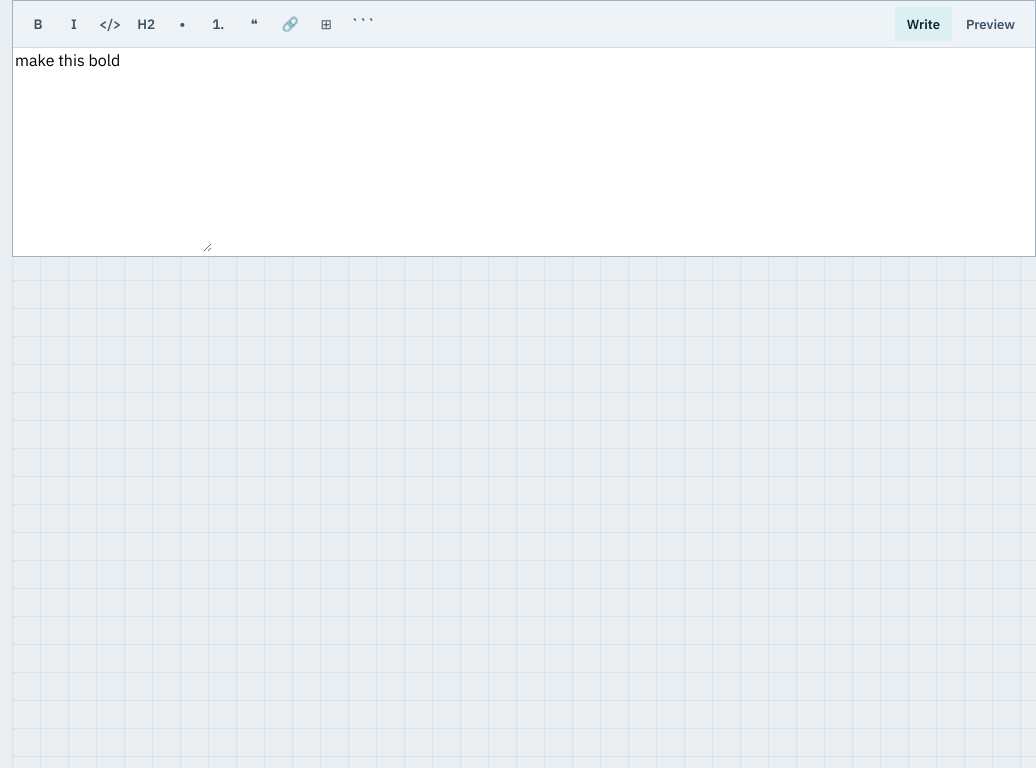
Scenario: MarkdownEditor › wraps the selection when a formatting tool is used
Click the button named "Bold": (38, 24) [21,7,55,41]
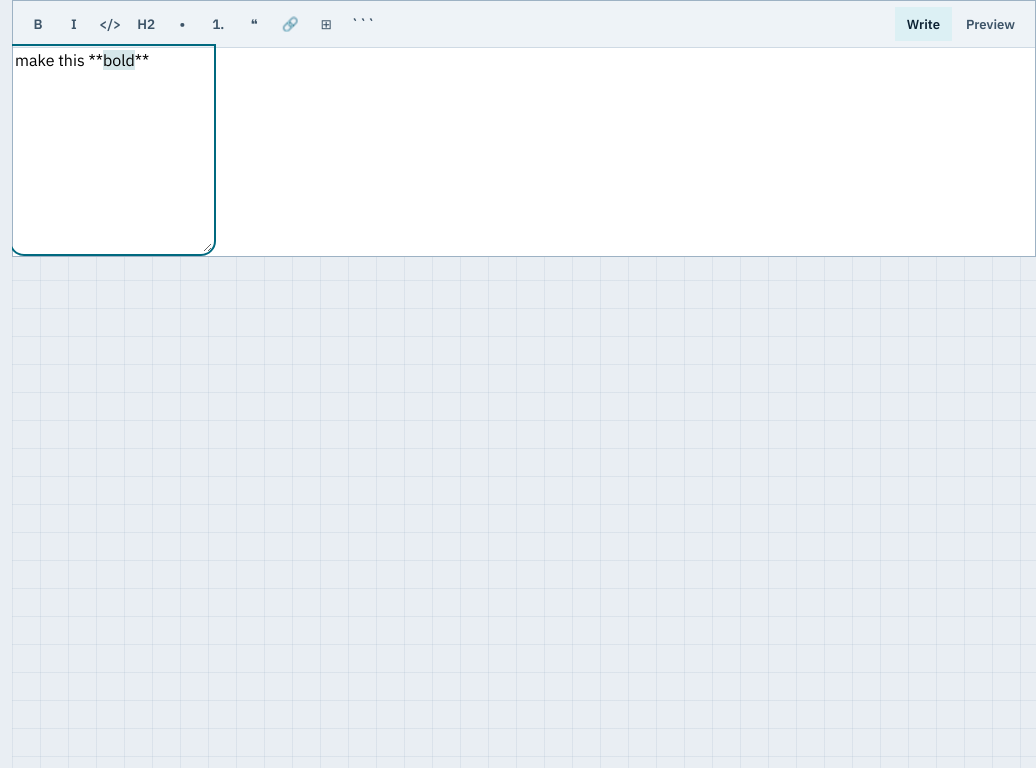
Expected: the text box holds "make this **bold**", [13,48,212,252]
